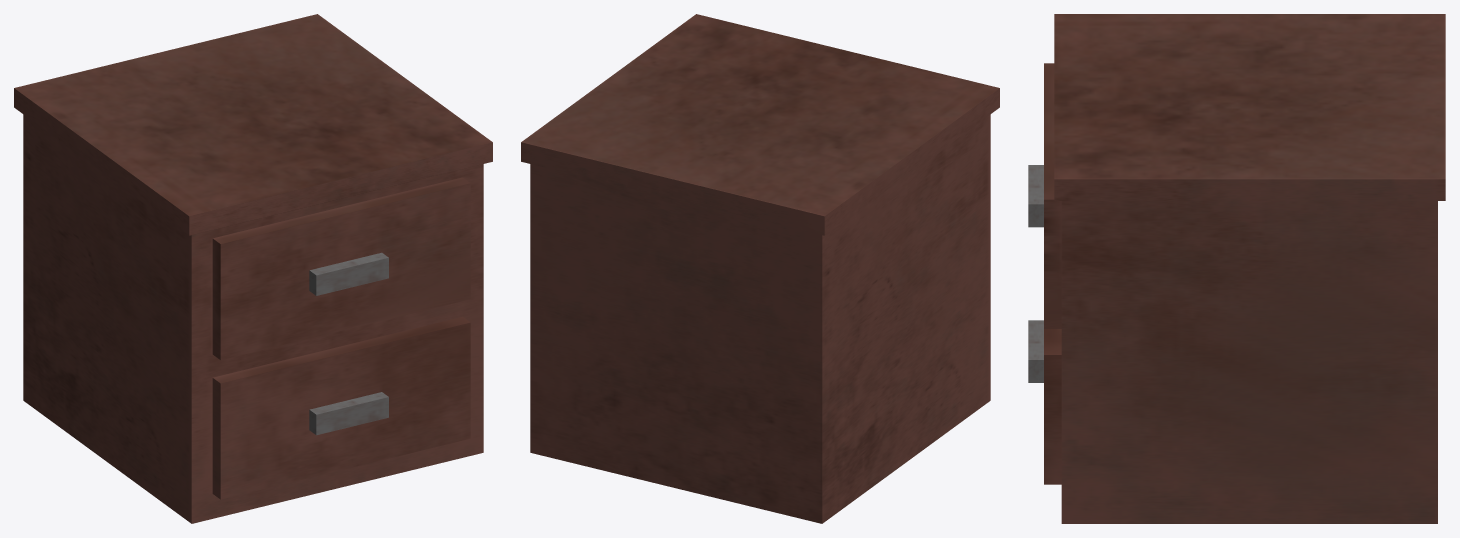
The model's file is criadomudo.glb.
3 views of the same model, side by side, from view 1: azimuth 30°, elevation 25°; view 2: azimuth 150°, elevation 25°; view 3: azimuth 270°, elevation 25° (orthographic). The views are drawn at different scales.
Visible parts, largest first — view 1: Cube.015; view 2: Cube.015; view 3: Cube.015.
Part boxes in pixels (<box>): Cube.015: <box>14,14,492,523</box>; Cube.015: <box>521,14,999,523</box>; Cube.015: <box>1028,14,1445,523</box>.
Bounding box in the file's own units: 1.04 × 1.02 × 1.11.
Materials: 1 (1 with a texture image).
